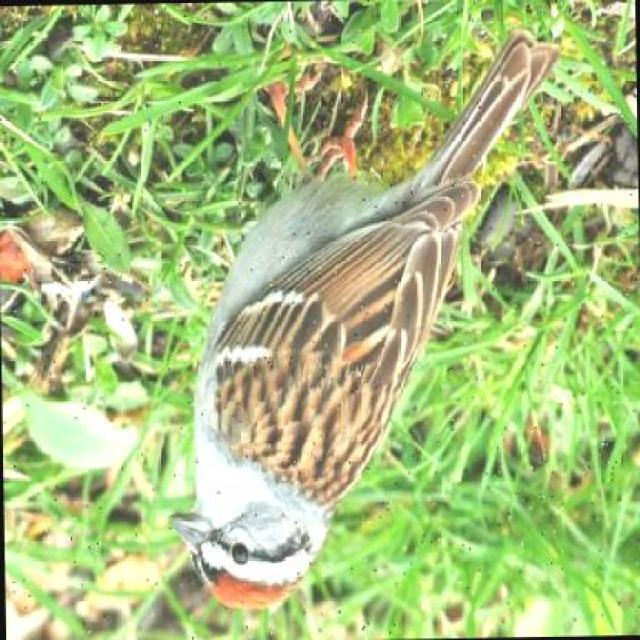Bird: (161, 29, 565, 616)
